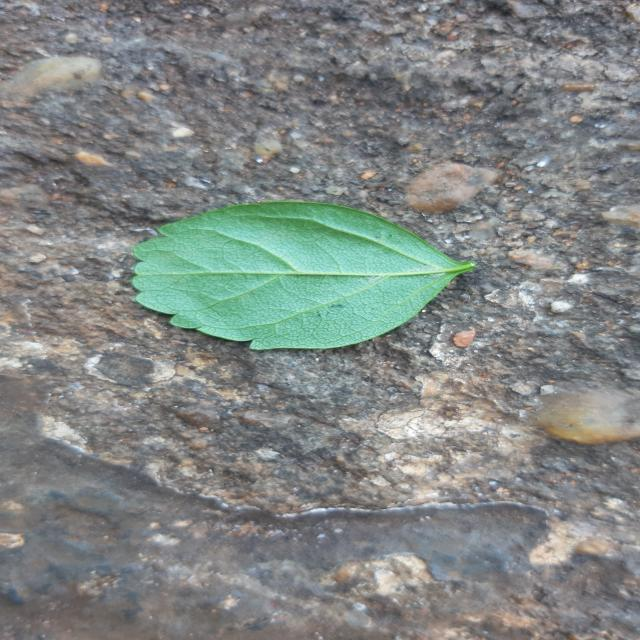tecoma: (133, 201, 476, 350)
